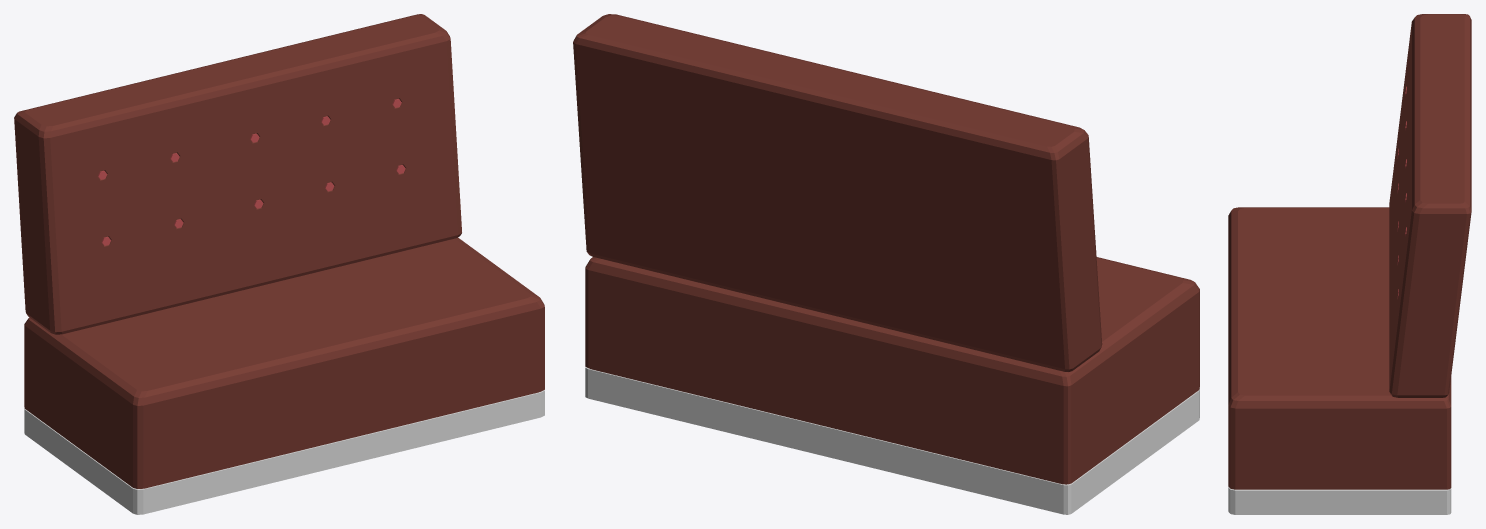
File: C_Couch.fbx
3 views of the same model, side by side, from view 1: azimuth 30°, elevation 25°; view 2: azimuth 150°, elevation 25°; view 3: azimuth 270°, elevation 25° (orthographic). The views are drawn at different scales.
Visible parts, largest first — view 1: C_Couch; view 2: C_Couch; view 3: C_Couch.
Boxes of the visible parts, x1,y1,x2,y2 form: C_Couch: (14,14,544,514); C_Couch: (573,14,1199,514); C_Couch: (1228,14,1471,514).
Size of the model in its own units: 1347 by 705 by 985.
